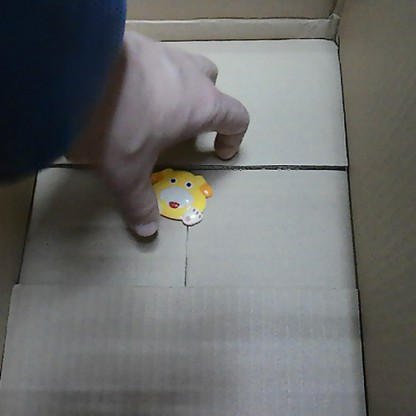dogclip: (143, 162, 214, 226)
